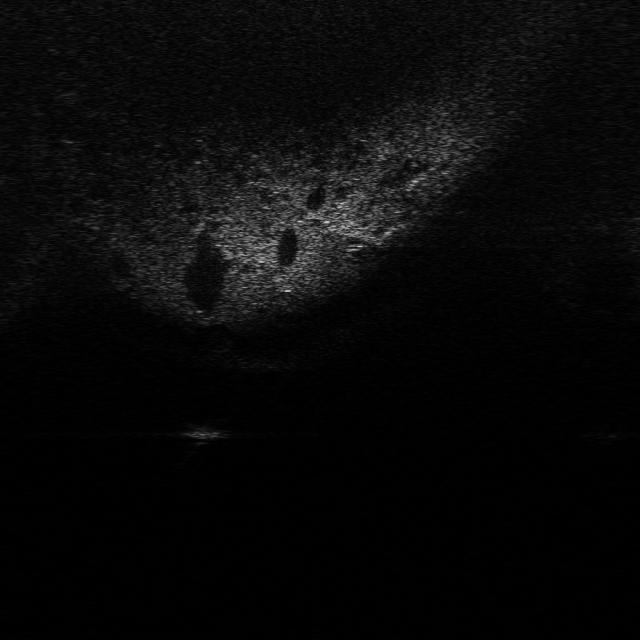cube: (173, 418, 236, 443)
